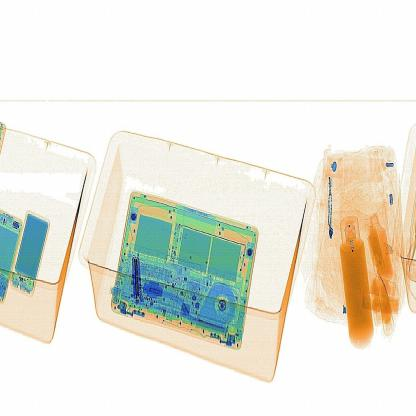scissors: (122, 241, 160, 308)
